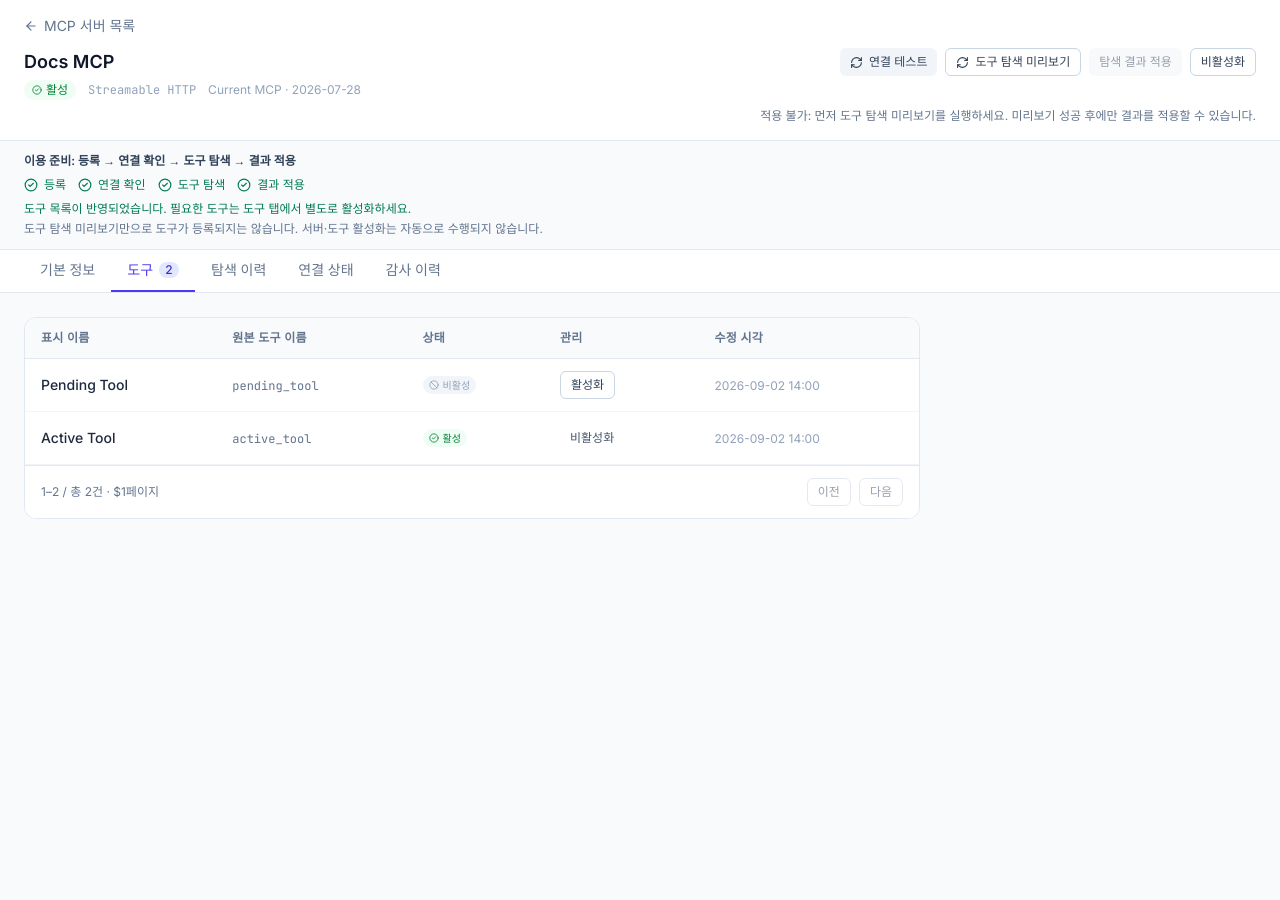
it: MCP server tool list: inline lifecycle and tab preservation › shows version-conflict and refreshes list instead of retrying the mutation
The image size is (1280, 900).
Click the button with aria-label "도구 활성화: Pending Tool" at (588, 385), box [560,371,615,399]
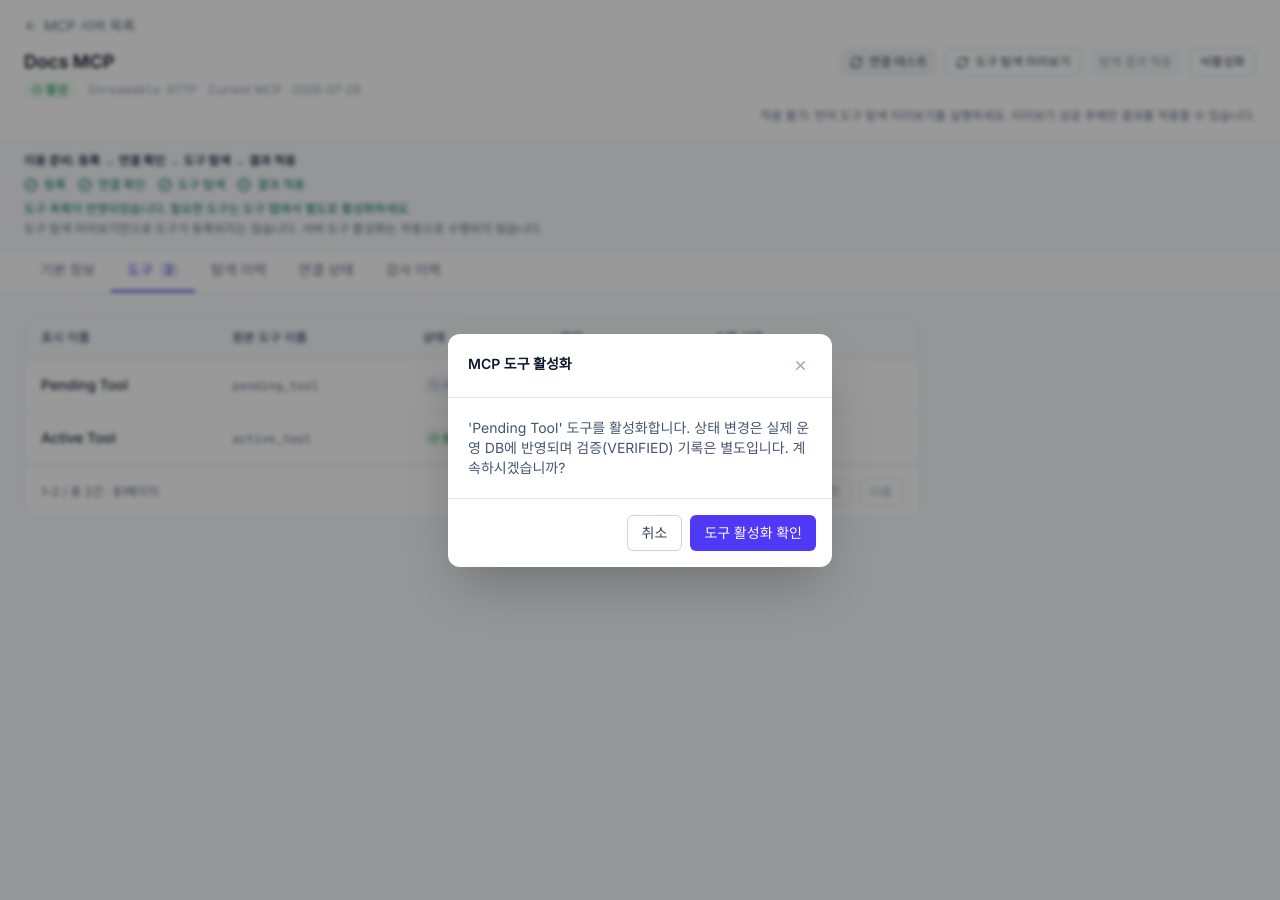
Click the button "도구 활성화 확인" at (753, 532), box [690,514,816,550]
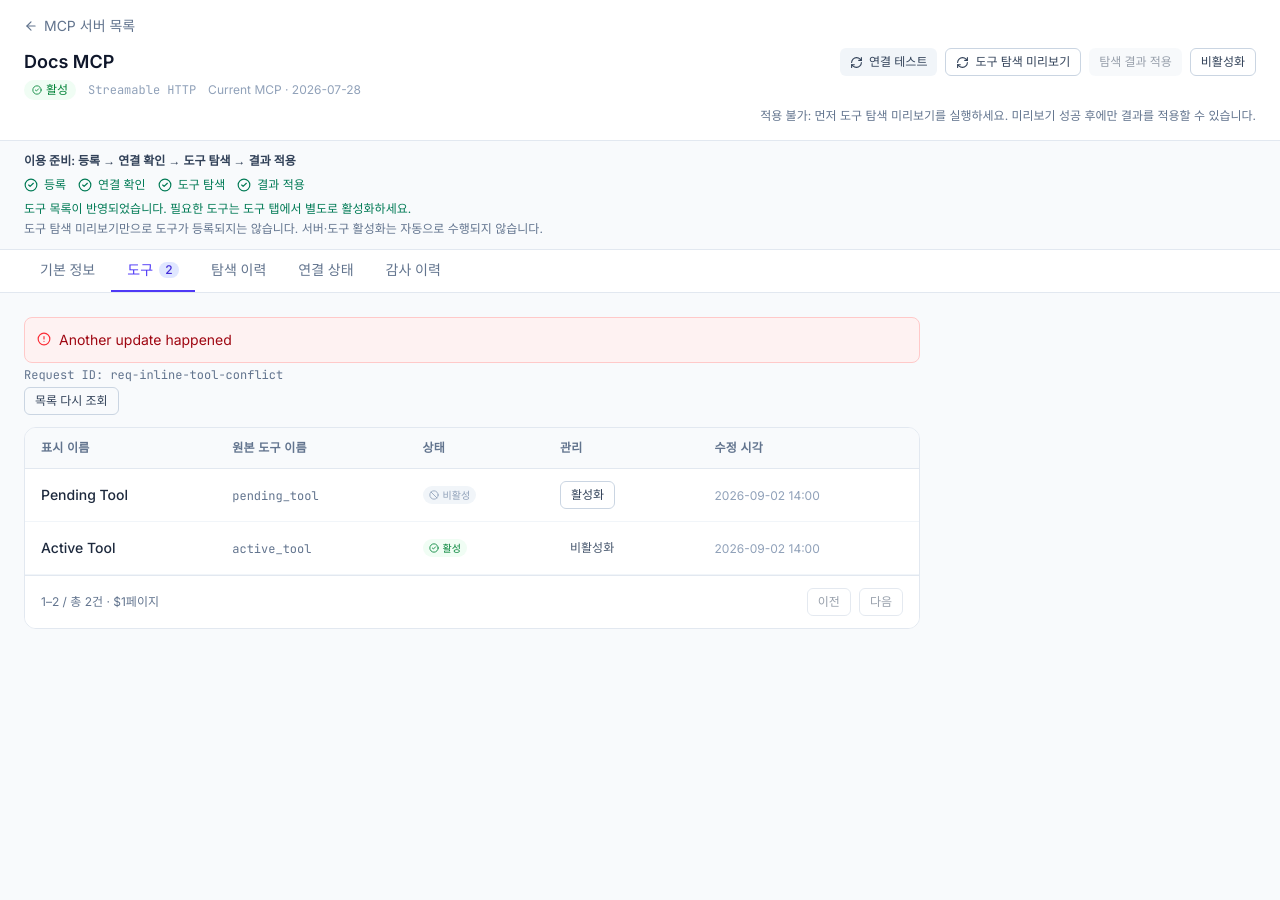
Now the text "Another update happened" is shown, box [59,330,232,350]
Now the text "Request ID: req-inline-tool-conflict" is shown, box [24,367,283,383]
